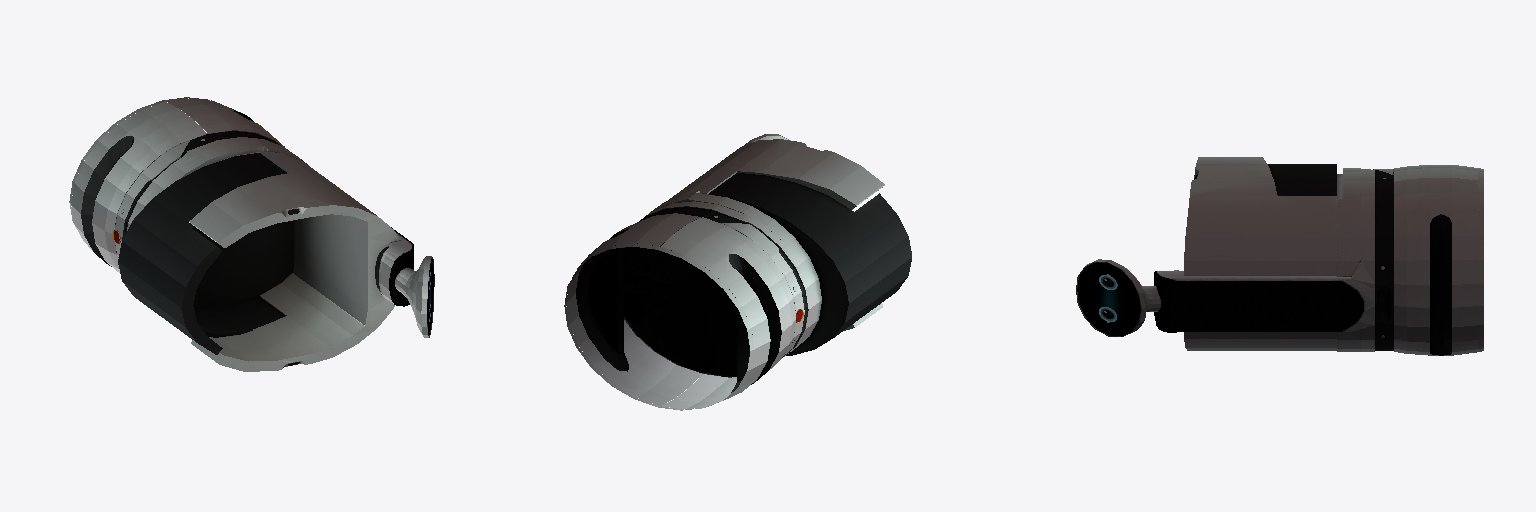
3 renders of one model, left to right at view 1: azimuth 30°, elevation 25°; view 2: azimuth 150°, elevation 25°; view 3: azimuth 270°, elevation 25°, orthographic.
Parts seen in each view (by area): view 1: Boole_1, back, base_back, base_front, bottom, base_head, base_backhead, base_neck, base_top, base_display, base_middle; view 2: back, base_front, base_back, base_middle, Boole_1, bottom, base_base, base_top, base_backhead; view 3: Boole_1, base_front, base_display, base_head, base_middle, bottom, base_neck, back, base_top, base_base, base_back.
Boxes of the visible parts, <box> form: Boole_1: <box>189,151,400,371</box>; back: <box>118,153,293,354</box>; base_back: <box>71,102,206,272</box>; base_front: <box>166,98,284,146</box>; bottom: <box>138,140,307,213</box>; base_head: <box>413,256,434,337</box>; base_backhead: <box>114,140,189,257</box>; base_neck: <box>375,233,411,303</box>; base_top: <box>127,137,288,230</box>; base_display: <box>389,227,413,306</box>; base_middle: <box>125,131,278,233</box>; back: <box>709,173,911,355</box>; base_front: <box>566,213,702,405</box>; base_back: <box>661,217,795,408</box>; base_middle: <box>624,207,807,376</box>; Boole_1: <box>669,139,884,330</box>; bottom: <box>651,191,821,353</box>; base_base: <box>564,243,754,410</box>; base_top: <box>639,201,812,357</box>; base_backhead: <box>721,223,804,353</box>; Boole_1: <box>1184,157,1336,350</box>; base_front: <box>1394,178,1477,355</box>; base_display: <box>1154,271,1363,332</box>; base_head: <box>1076,259,1145,336</box>; base_middle: <box>1375,171,1393,350</box>; bottom: <box>1337,168,1360,351</box>; base_neck: <box>1157,261,1374,339</box>; back: <box>1268,164,1336,195</box>; base_top: <box>1361,169,1374,351</box>; base_base: <box>1478,168,1483,351</box>; base_back: <box>1394,165,1477,181</box>.
Bounding box in the file's own units: 0.8144 × 0.5867 × 1.31.
Materials: 2 (2 with a texture image).